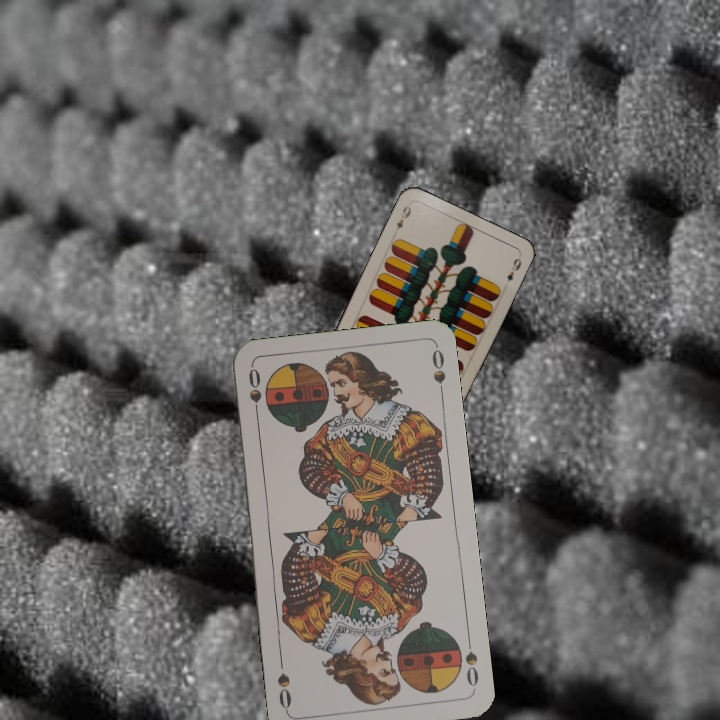E9: (392, 202, 414, 232)
SO: (244, 364, 265, 423), (461, 632, 482, 691)
